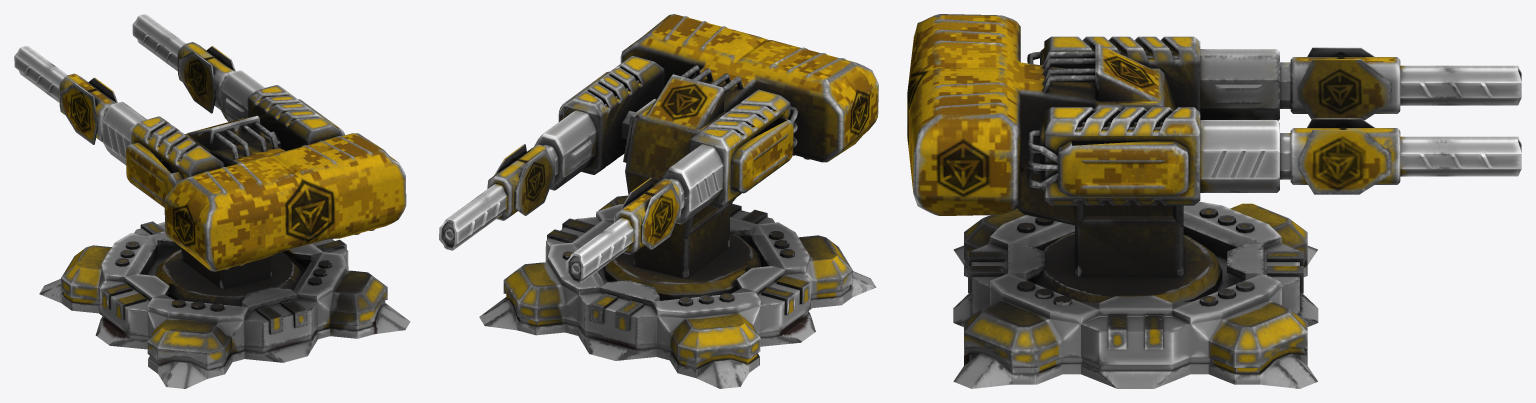
File: Turret_1.fbx
3 views of the same model, side by side, from view 1: azimuth 30°, elevation 25°; view 2: azimuth 150°, elevation 25°; view 3: azimuth 270°, elevation 25° (orthographic). The views are drawn at different scales.
Visible parts, largest first — view 1: node_b08015a0_dc3e_4454_b88a_7ac64e40da3d_mesh0; view 2: node_b08015a0_dc3e_4454_b88a_7ac64e40da3d_mesh0; view 3: node_b08015a0_dc3e_4454_b88a_7ac64e40da3d_mesh0.
Part boxes in pixels (<box>): node_b08015a0_dc3e_4454_b88a_7ac64e40da3d_mesh0: <box>14,14,410,388</box>; node_b08015a0_dc3e_4454_b88a_7ac64e40da3d_mesh0: <box>439,14,878,388</box>; node_b08015a0_dc3e_4454_b88a_7ac64e40da3d_mesh0: <box>907,14,1521,388</box>.
Size of the model in its own units: 75447 by 59287 by 127096.
Materials: 1 (1 with a texture image).
